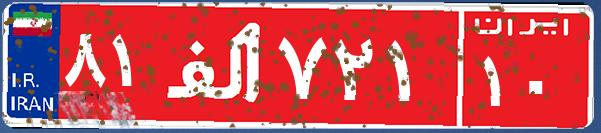0: (525, 38, 570, 115)
1: (385, 28, 445, 110), (475, 38, 525, 113), (110, 28, 158, 105)
2: (330, 28, 385, 110)
7: (273, 28, 330, 110)
8: (57, 26, 110, 107)
الف: (158, 15, 273, 115)
